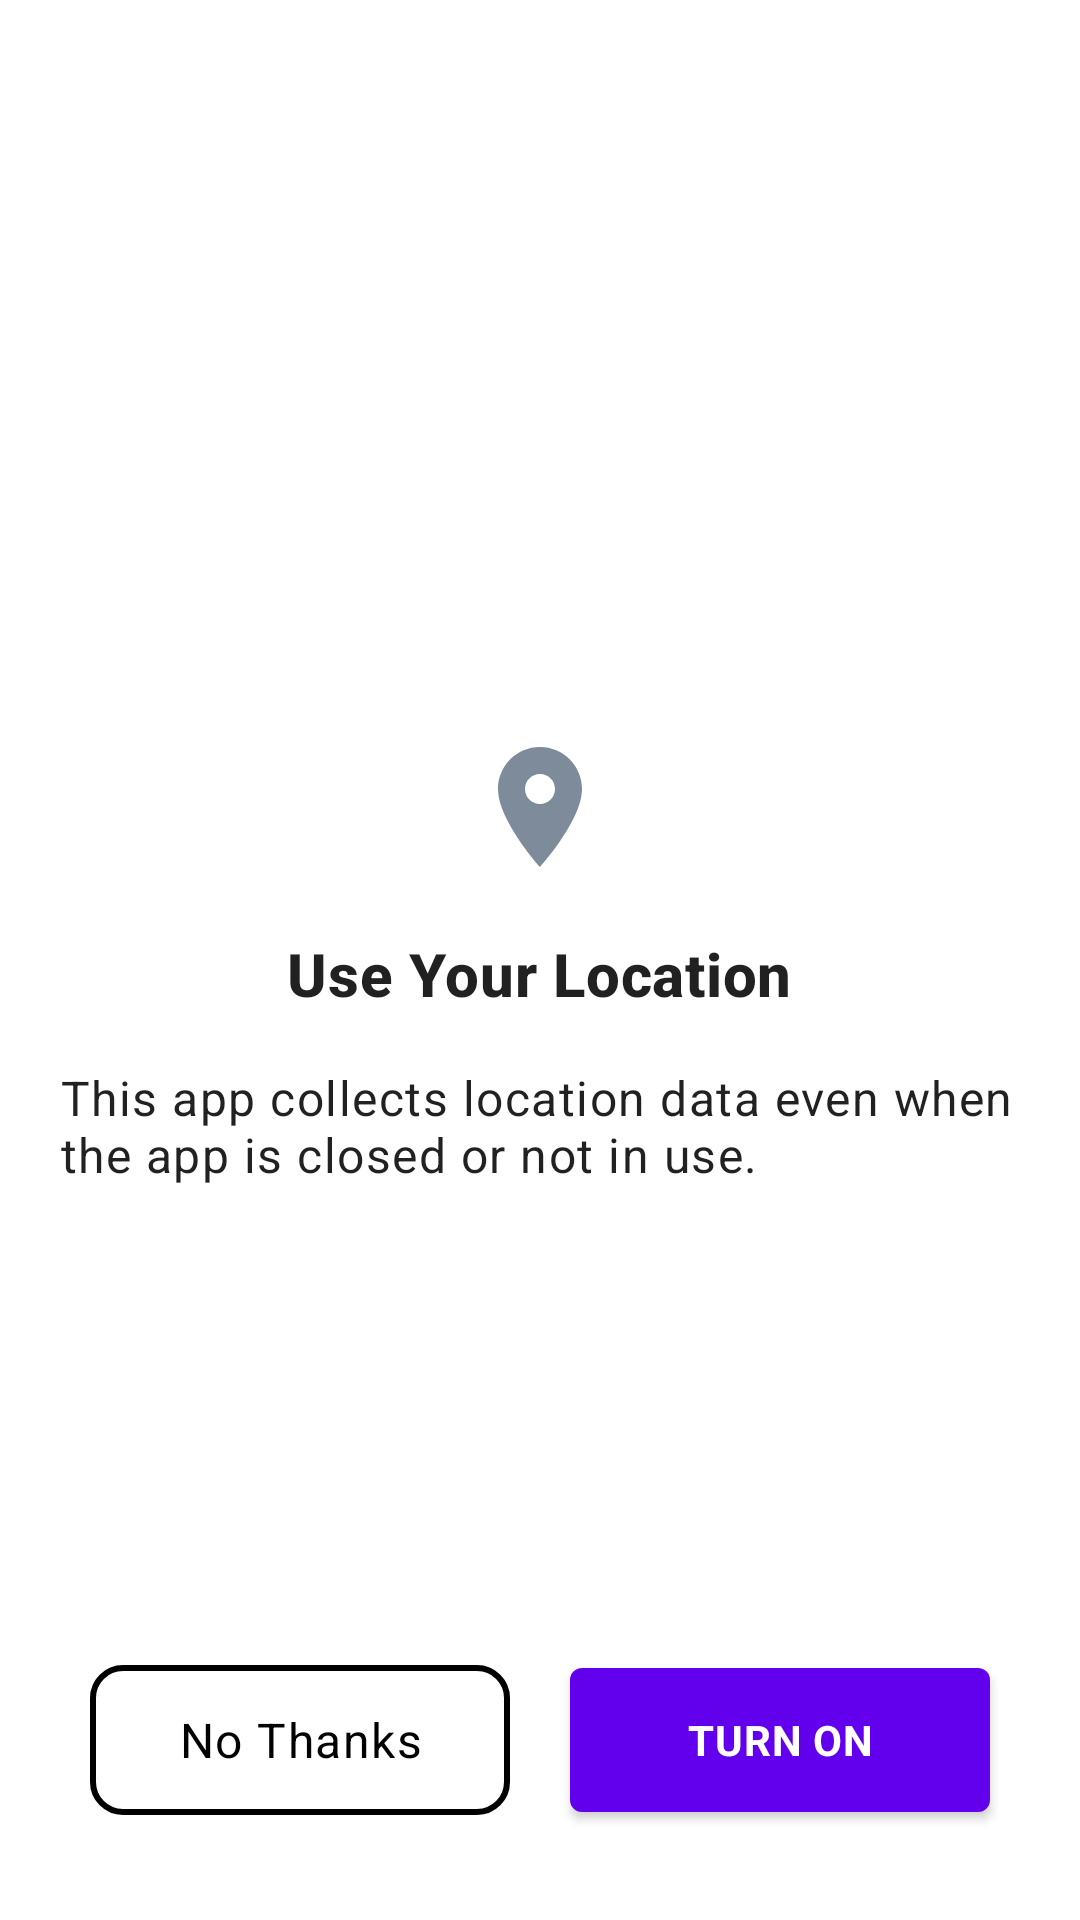

Screen size 1080 × 1920. Icon name, then its center in pixels as (x,y):
location on: (540,807)
